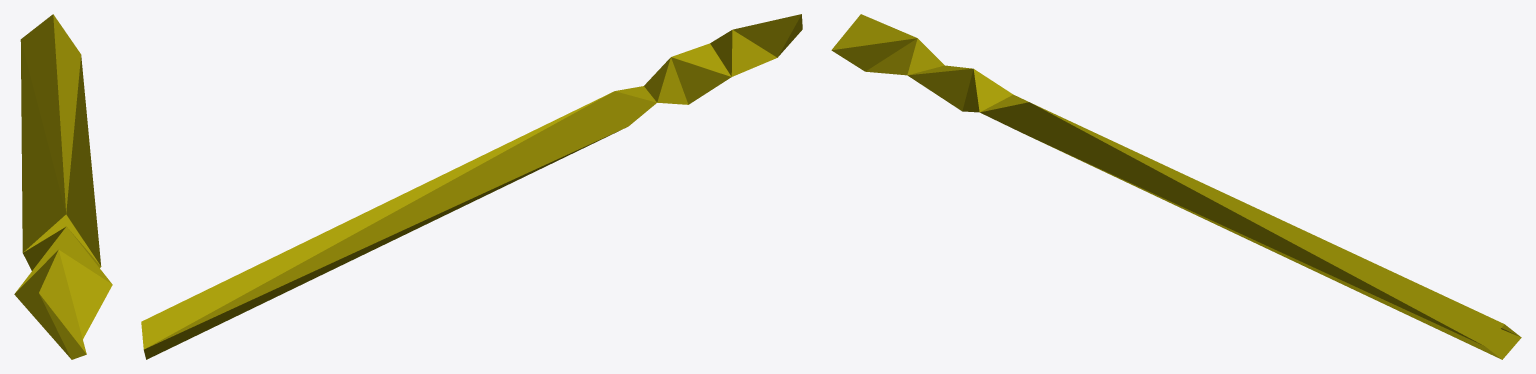
File: Farmer_Wheatear.fbx
The picture shows the model from 3 angles, left to right: view 1: azimuth 30°, elevation 25°; view 2: azimuth 150°, elevation 25°; view 3: azimuth 270°, elevation 25°; orthographic projection. The views are drawn at different scales.
Visible parts, largest first — view 1: Farmer_M_Wheatear; view 2: Farmer_M_Wheatear; view 3: Farmer_M_Wheatear.
Part boxes in pixels (x1,y1,x2,y2): Farmer_M_Wheatear: [14, 14, 112, 359]; Farmer_M_Wheatear: [141, 14, 802, 359]; Farmer_M_Wheatear: [831, 14, 1521, 359].
Size of the model in its own units: 5.26 by 2.78 by 9.32.
